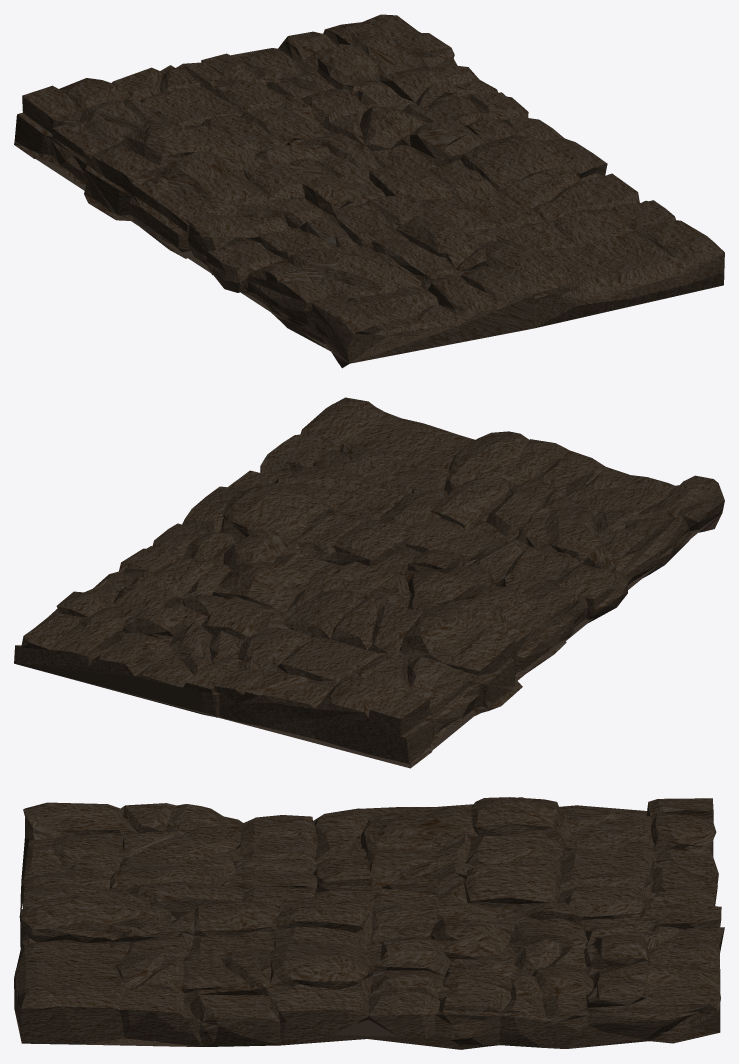
The model's file is cave-floor1.glb.
3 renders of one model, top to bottom at view 1: azimuth 30°, elevation 25°; view 2: azimuth 150°, elevation 25°; view 3: azimuth 270°, elevation 25°, orthographic. The views are drawn at different scales.
Visible parts, largest first — view 1: Cube.001; view 2: Cube.001; view 3: Cube.001.
Boxes of the visible parts, bbox=[...] form: Cube.001: bbox=[14, 14, 724, 368]; Cube.001: bbox=[14, 397, 724, 768]; Cube.001: bbox=[14, 797, 724, 1049].
Size of the model in its own units: 8.52 by 1.42 by 12.14.
1 material, 1 textured.
